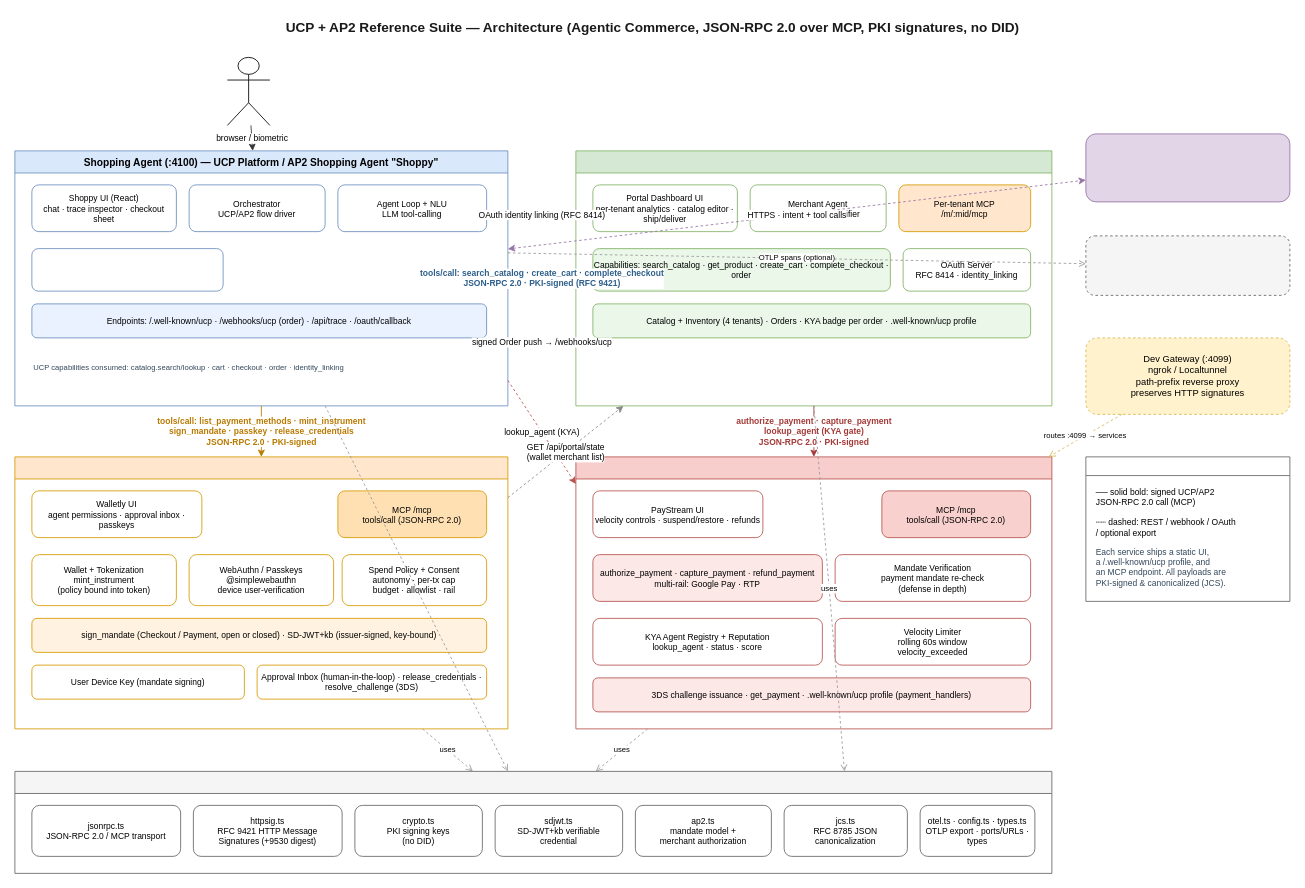
This 1305x888 diagram has some shape labels left out. The shapes that lost their labels are listed below. From the top down, each one's box as (x1, y1, x2, y2) in pixels, then its label:
(227, 57, 270, 125): User (Alex) buyer / device biometric
(1085, 133, 1290, 202): LLM Providers (OpenAI / Anthropic) NLU + agentic loop deterministic fallback
(31, 248, 223, 291): Audit hash-chain seq / prev_hash / hash · evidence bundle
(575, 150, 1052, 406): Merchant Portal (:4101) — 4 UCP Businesses (multi-tenant) + Merchant Agent
(1085, 235, 1290, 295): OTel Collector (optional) OTLP/HTTP spans Tempo / Jaeger
(1085, 456, 1290, 601): Legend
(14, 456, 508, 729): Credentials Provider (:4102) — AP2 Credentials Provider "Walletly"
(575, 456, 1052, 729): Payment Provider (:4103) — PSP / AP2 Merchant Payment Processor "PayStream"
(14, 771, 1052, 873): packages/common — shared UCP/AP2 protocol library
